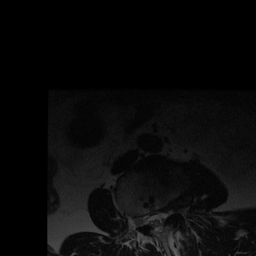CCS_normal: (154, 207, 161, 236)
LFS_stenosis: (168, 201, 175, 221)
LLS_stenosis: (161, 207, 167, 229)
RFS_normal: (138, 207, 147, 233)
RLS_normal: (147, 208, 154, 233)
